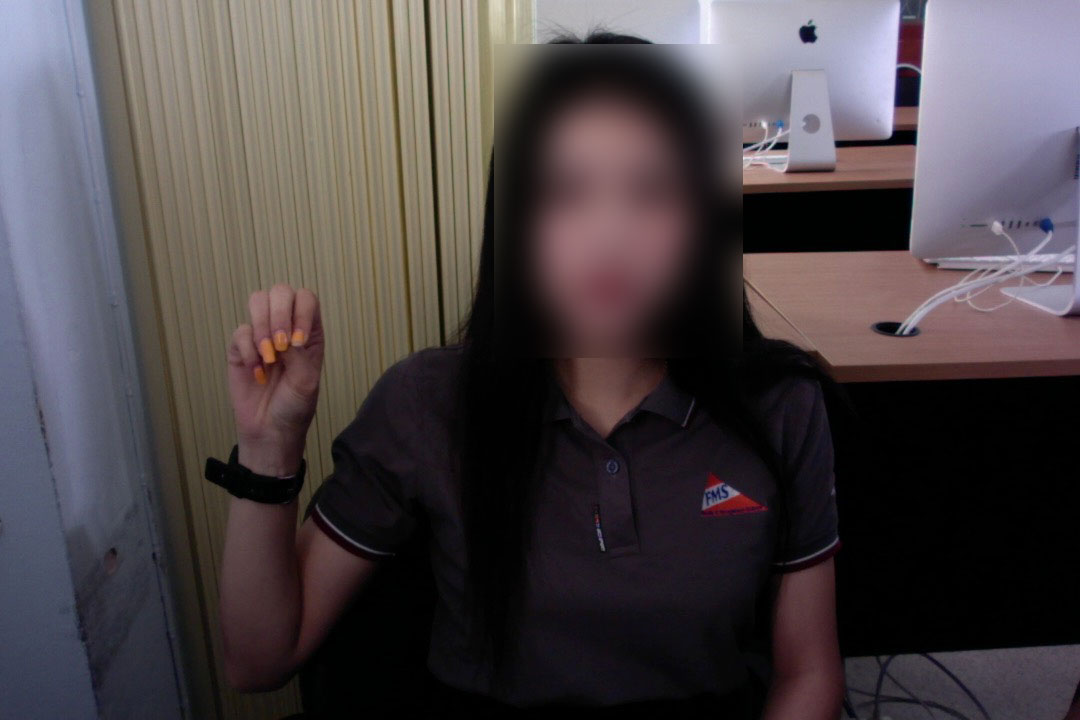mor: (220, 275, 331, 455)
